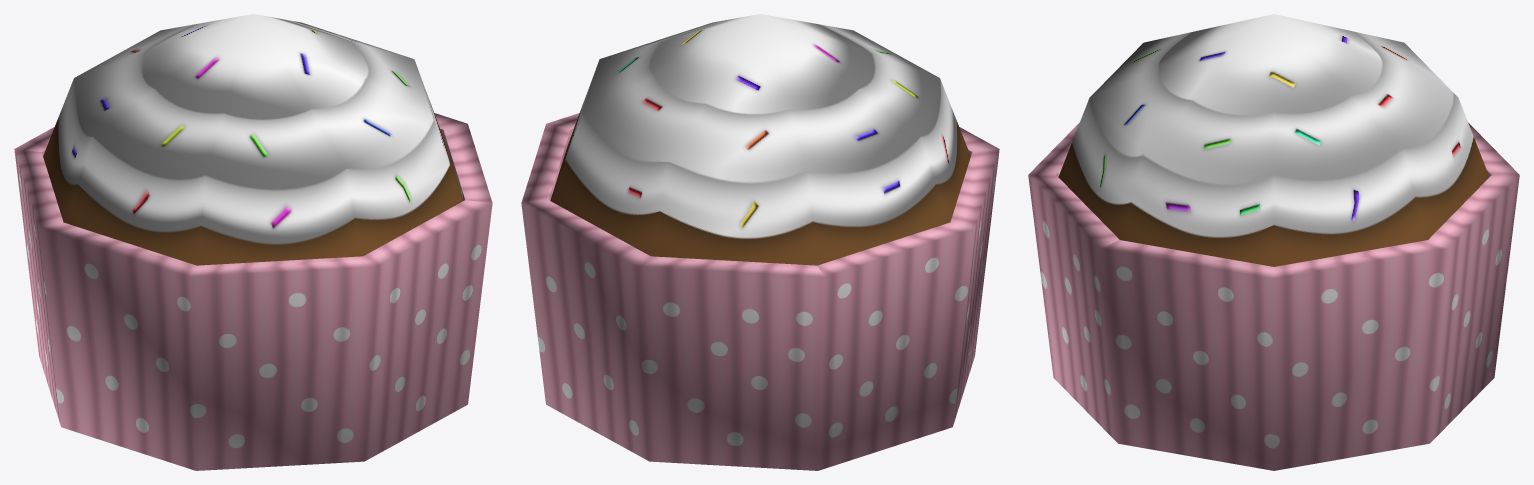
File: cupcake.fbx
3 views of the same model, side by side, from view 1: azimuth 30°, elevation 25°; view 2: azimuth 150°, elevation 25°; view 3: azimuth 270°, elevation 25° (orthographic).
Parts seen in each view (by area): view 1: cupcake; view 2: cupcake; view 3: cupcake.
Part boxes in pixels (bbox=[...]): cupcake: bbox=[14, 14, 492, 470]; cupcake: bbox=[521, 14, 999, 470]; cupcake: bbox=[1028, 14, 1519, 470].
Bounding box in the file's own units: 0.4729 × 0.3861 × 0.4729.
1 material, 1 textured.
